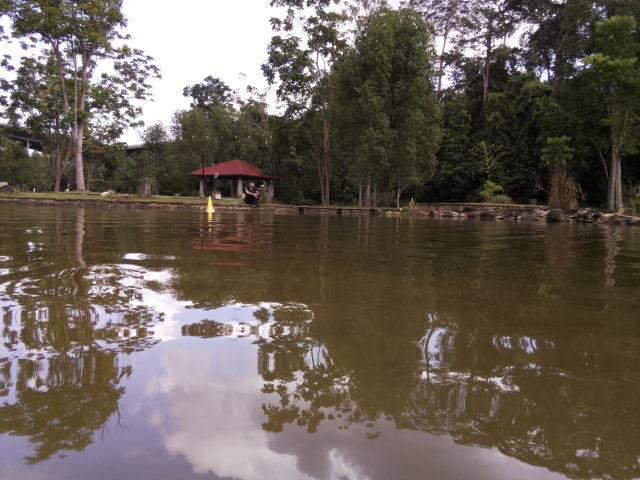checkpoint: (204, 195, 215, 213)
